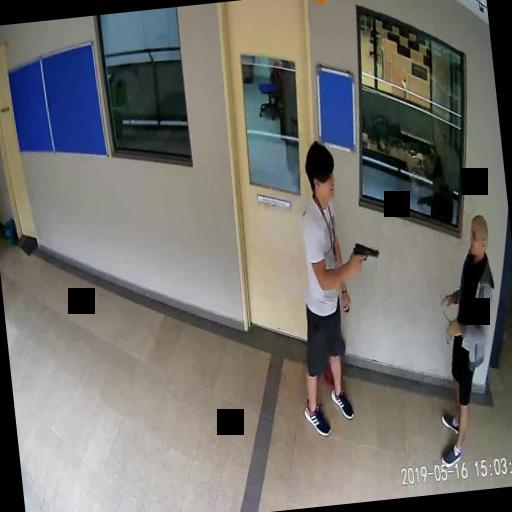Handgun: (350, 239, 379, 272)
